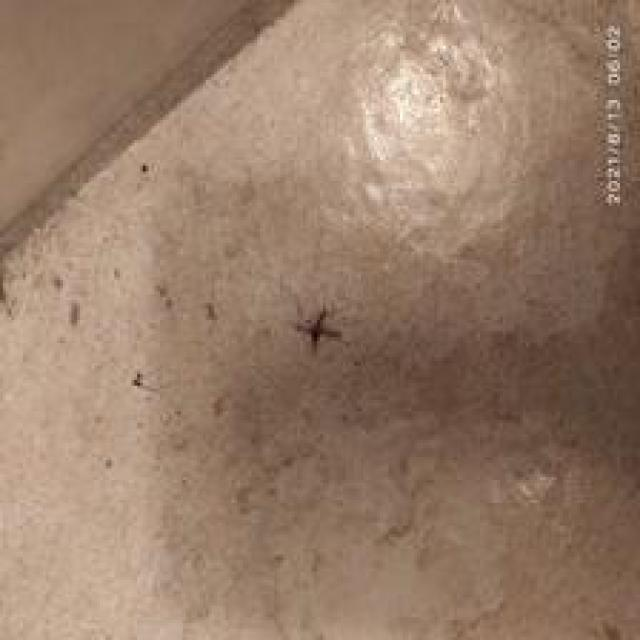Culex: (294, 304, 343, 353)
